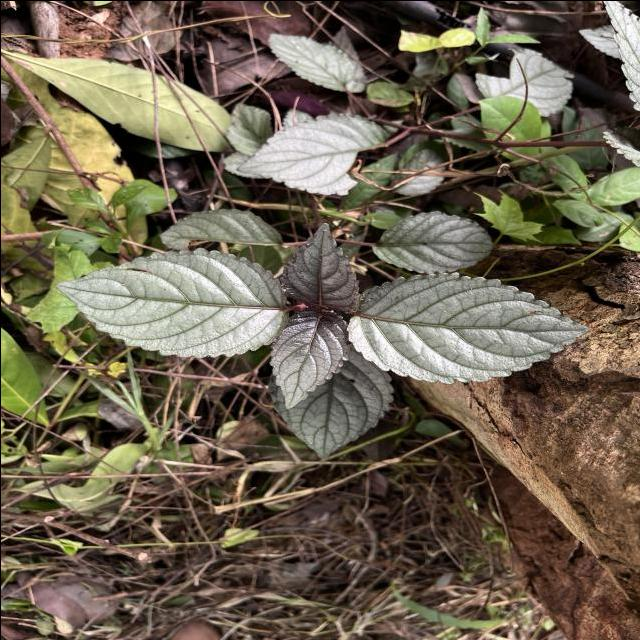Hemigraphis colorata: (343, 269, 594, 387), (50, 245, 293, 360), (266, 304, 357, 414), (366, 208, 496, 276), (278, 219, 362, 312)
